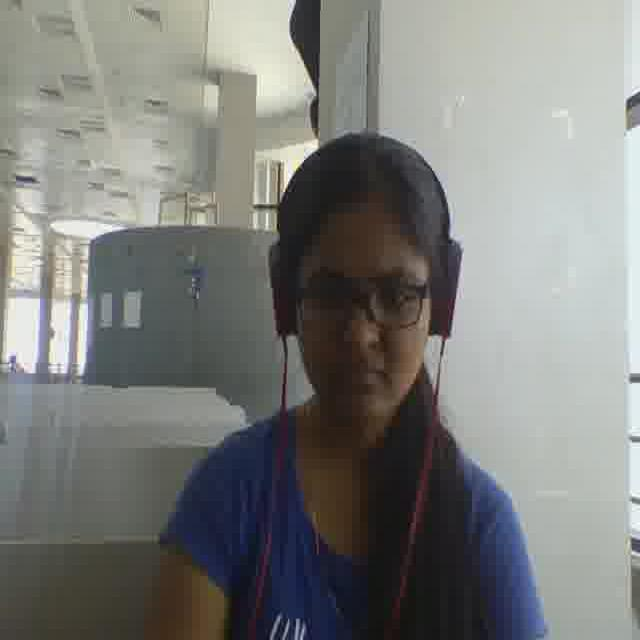Confusion: (301, 208, 426, 419)
